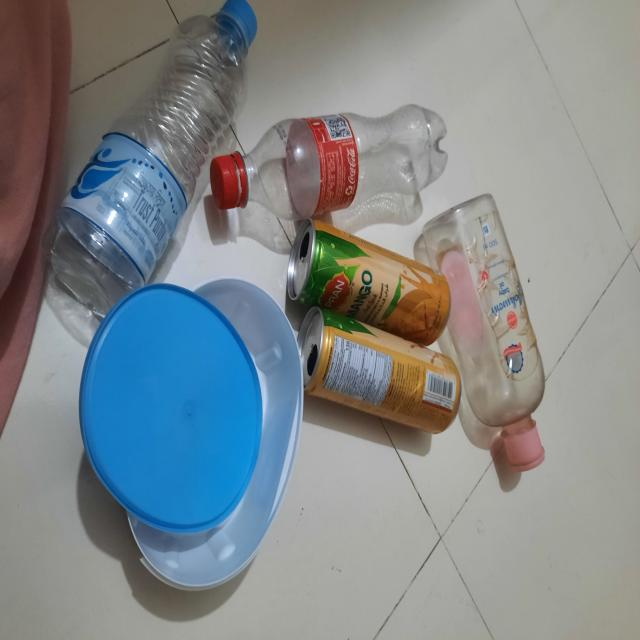Plastics: (70, 0, 574, 607)
